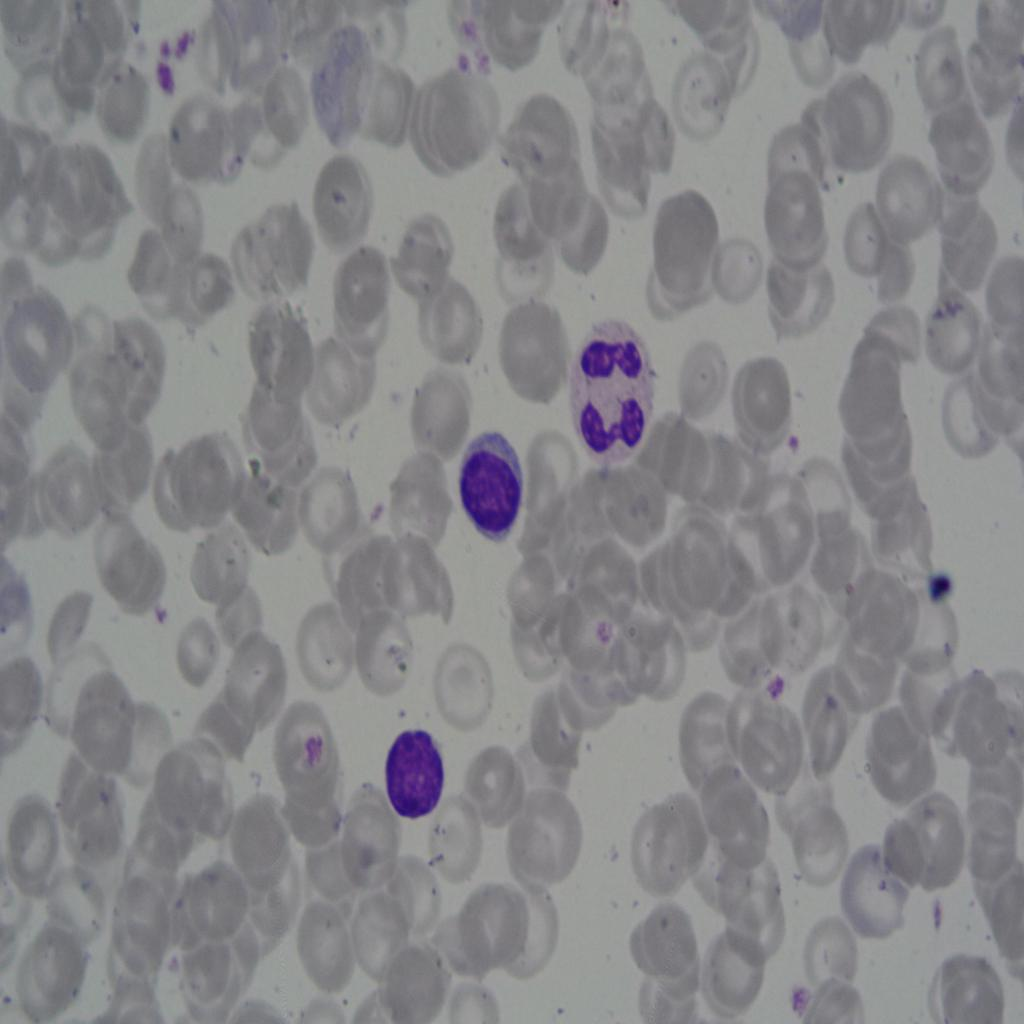Myeoblast: (449, 420, 523, 562), (380, 711, 453, 829)
Neutrofil: (570, 312, 658, 474)
Platelet: (588, 604, 622, 670), (782, 418, 818, 470), (932, 564, 965, 614), (768, 662, 795, 718), (449, 39, 478, 85), (304, 728, 328, 776), (789, 981, 814, 1022), (168, 26, 200, 56), (152, 589, 178, 625), (155, 63, 178, 94)
